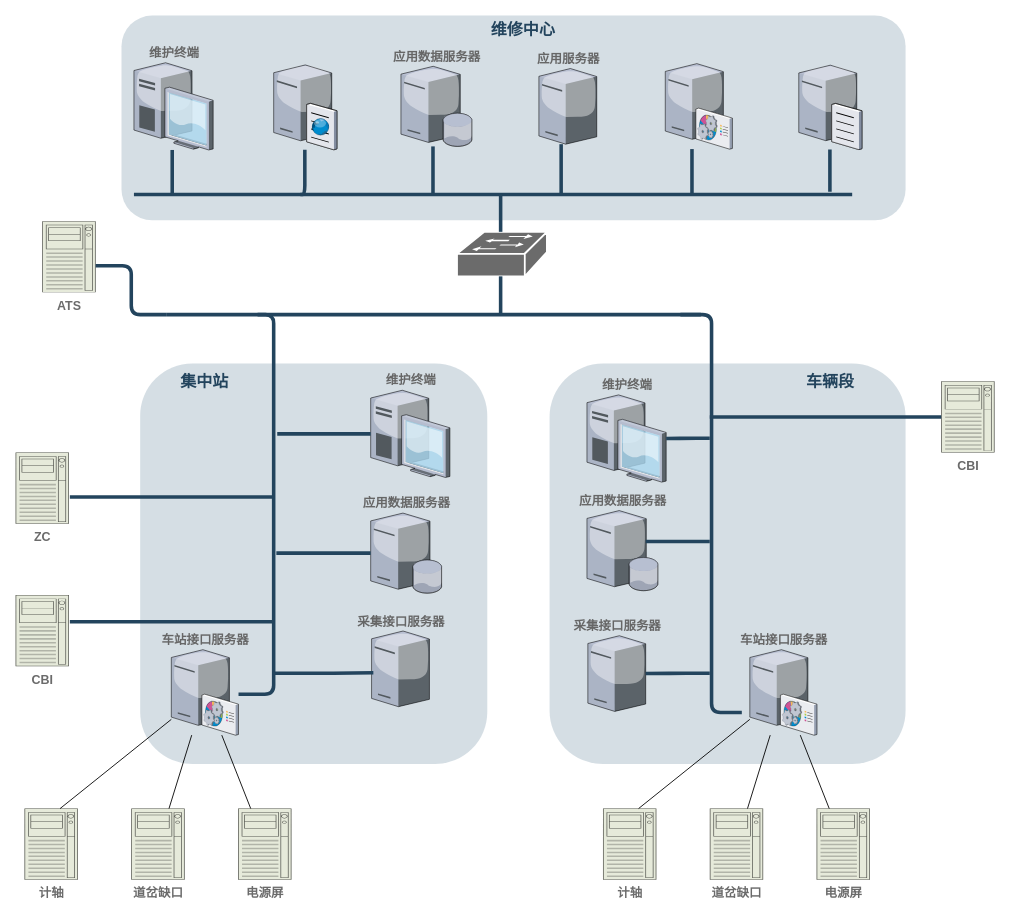
The diagram is 1010 pixels wide and 916 high, and some of its shapes have lost their labels. Each missing label, with the centre of its shape:
"大数据集群" goes at point 830,106.
"接口服务器" goes at point 698,106.
"缓存服务器" goes at point 304,105.
